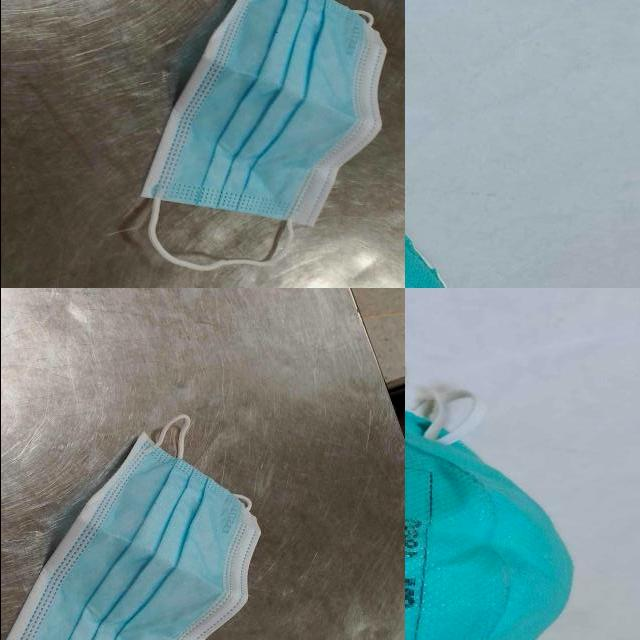General: (138, 2, 388, 274), (4, 418, 263, 640)
Infectious: (403, 391, 575, 640)
